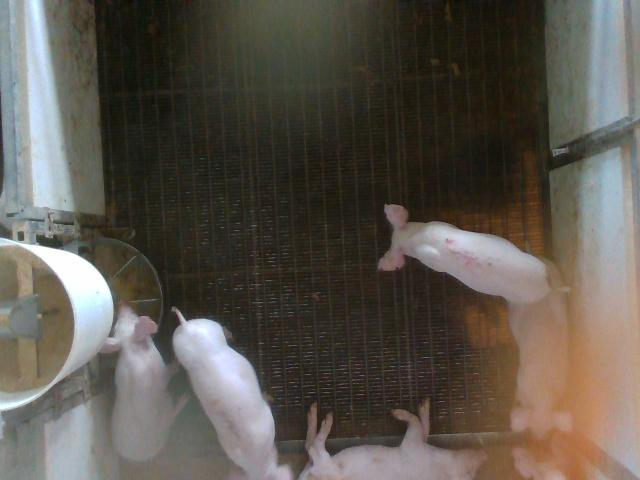pig-3: (172, 309, 291, 479)
pig-4: (509, 259, 572, 438)
pig-5: (379, 206, 551, 304)
